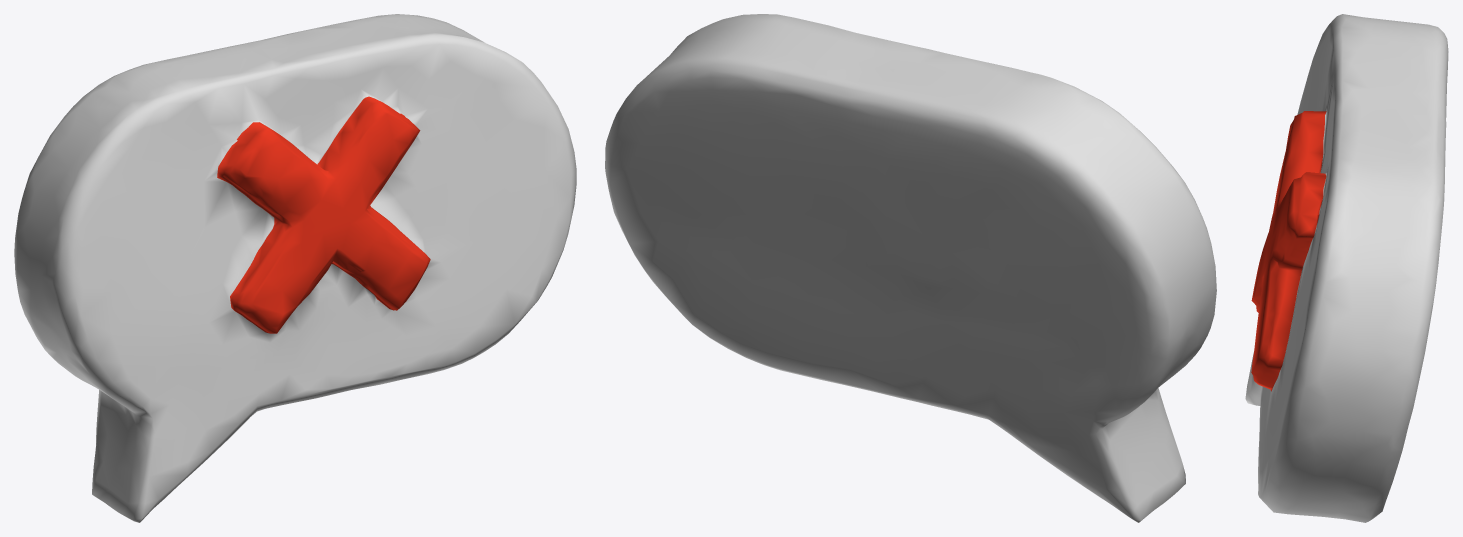
Rendered from incorrect.glb.
3 views of the same model, side by side, from view 1: azimuth 30°, elevation 25°; view 2: azimuth 150°, elevation 25°; view 3: azimuth 270°, elevation 25° (orthographic). The views are drawn at different scales.
Parts seen in each view (by area): view 1: sb_x; view 2: sb_x; view 3: sb_x.
Boxes of the visible parts, x1=… form: sb_x: x1=14, y1=14, x2=576, y2=522; sb_x: x1=605, y1=14, x2=1216, y2=522; sb_x: x1=1245, y1=14, x2=1448, y2=522.
Size of the model in its own units: 1.01 by 0.7215 by 0.3122.
